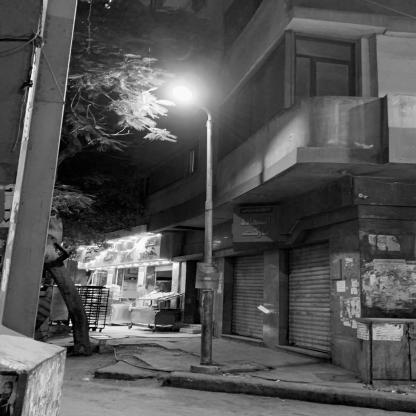light_pole: (170, 86, 214, 365)
